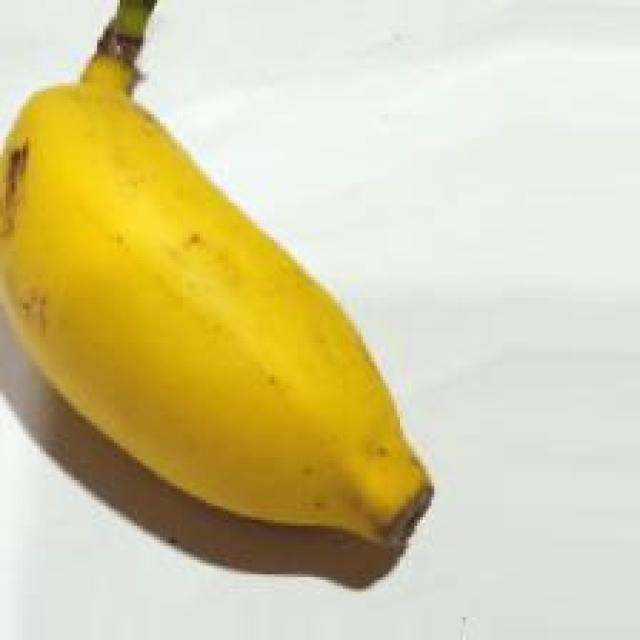banana: (7, 31, 480, 580)
